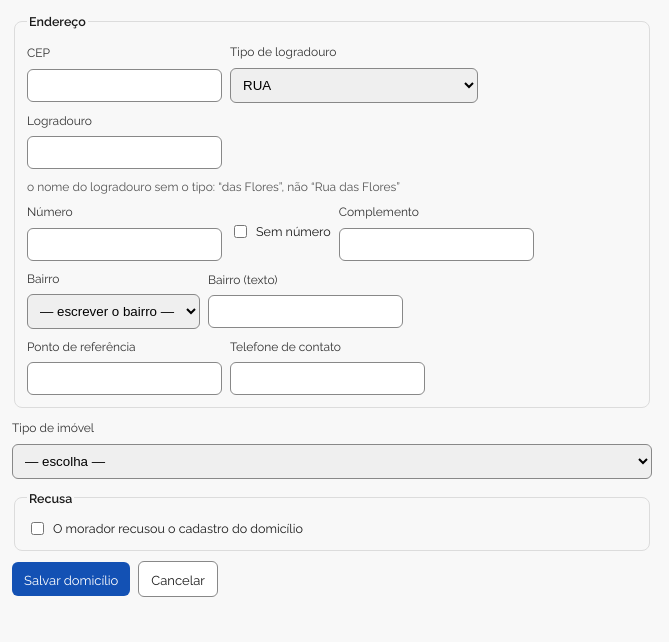
Scenario: HouseholdForm › CEP ruim é recusado antes de enviar, com o campo
Type "81020-000" into the field labelled "CEP". click: (124, 85)
box: [27,68,222,102]
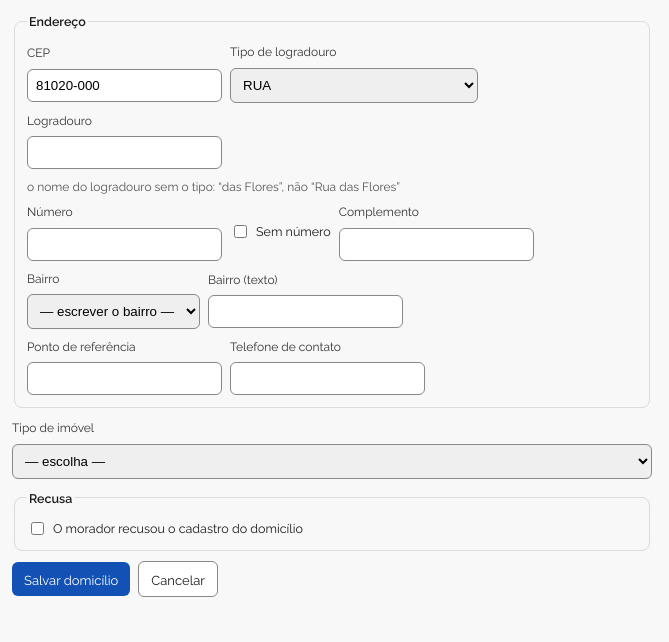
Select "RUA" in the dropdown labelled "Tipo de logradouro". click: (354, 85)
box: [230,68,478,102]
Type "das Flores" into the field labelled "Logradouro". click: (124, 152)
box: [27,136,222,169]
Type "120" into the field labelled "Número". click: (124, 244)
box: [27,228,222,261]
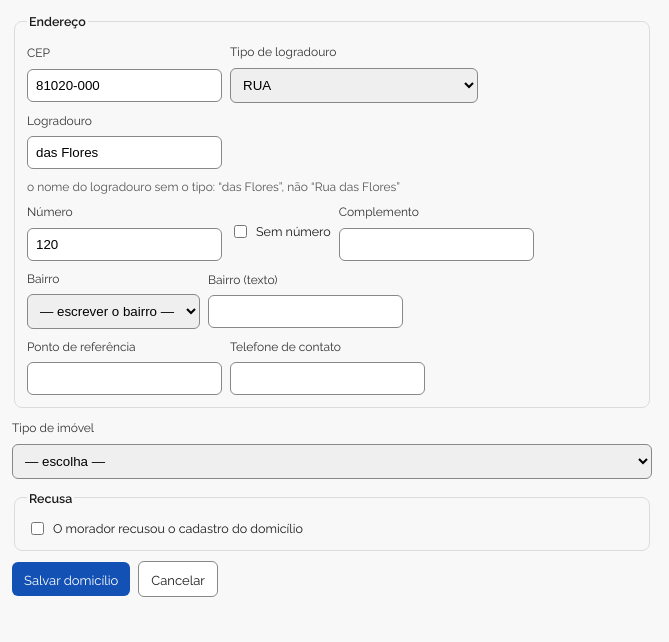
Select "Vila Verde" in the dropdown labelled "Bairro". click: (114, 312)
box: [27,294,200,329]
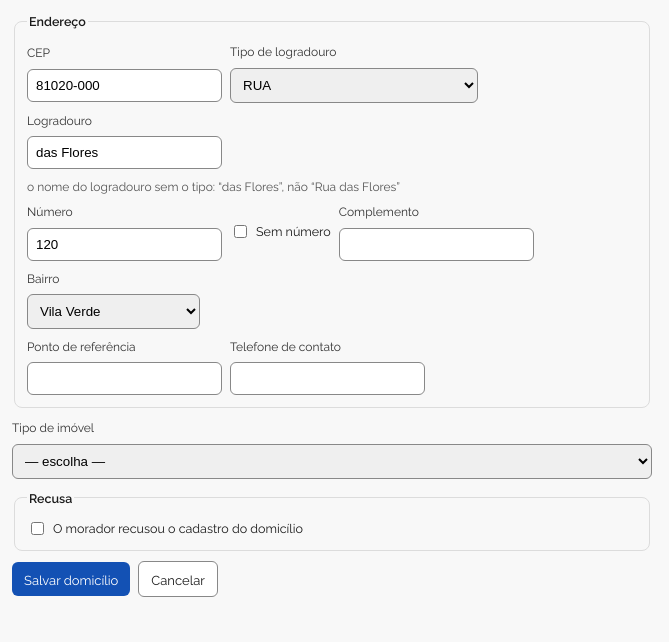
Select "Comércio" in the dropdown labelled "Tipo de imóvel". click: (332, 461)
box: [12,444,652,479]
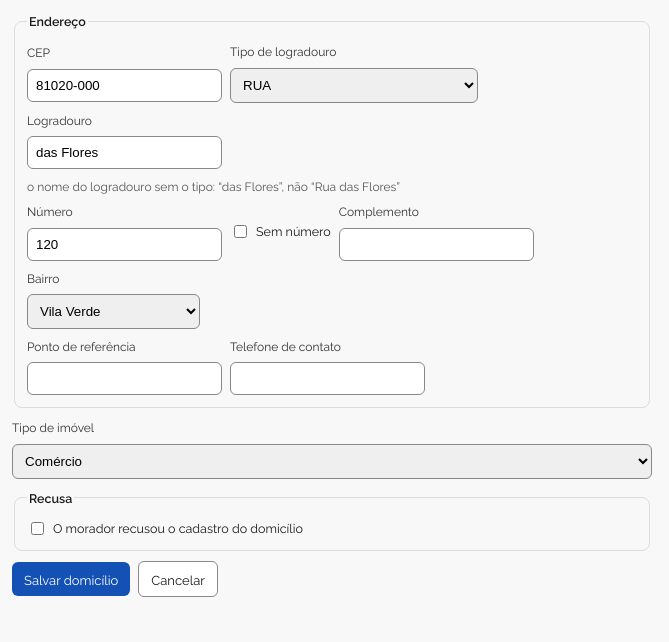
Replace the text in the field labelled "CEP" with "8102". click: (124, 85)
box: [27,68,222,102]
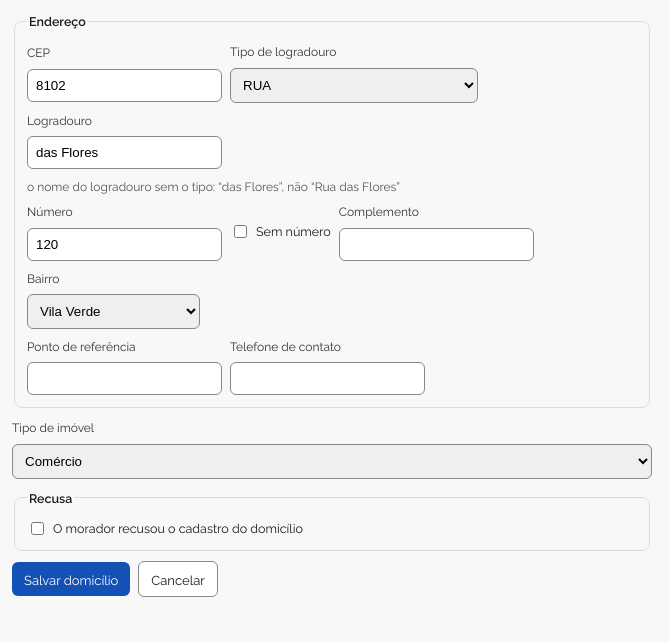
Click the button "Salvar domicílio". click: click(71, 579)
box: [12,562,130,596]
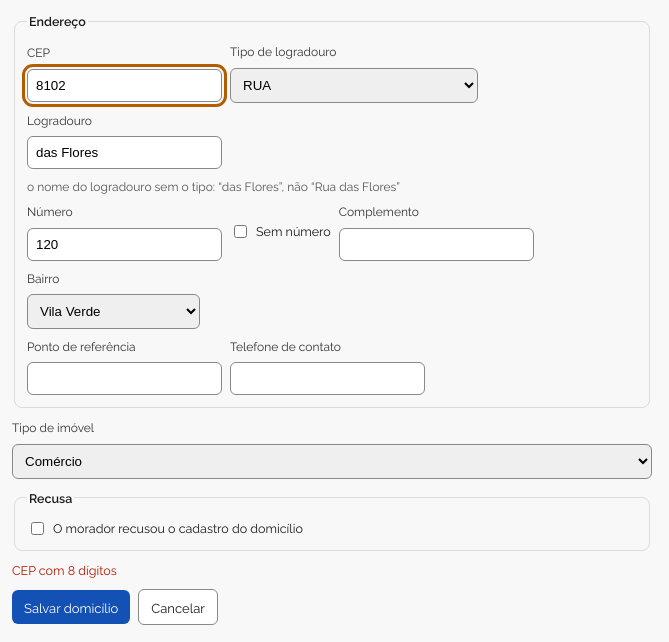
Result: the message reads "CEP com 8 dígitos" at [12,561,117,578]
